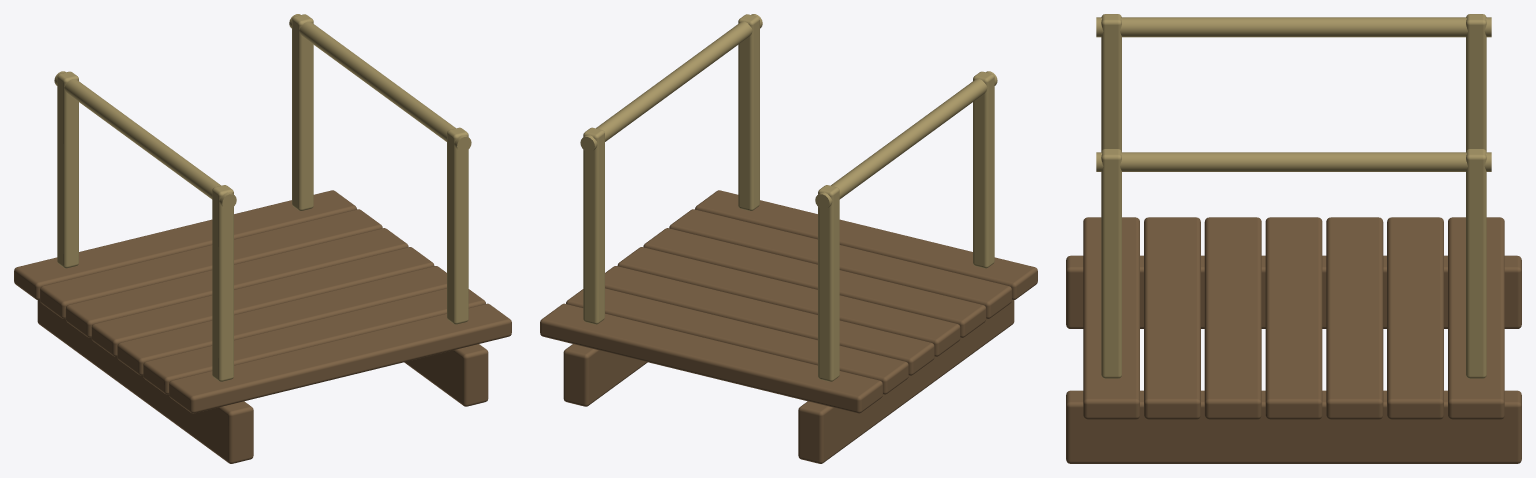
The model's file is water-clock-garden-and-hydraulic-puzzles-removable-ins-441a19b6__31960.glb.
3 views of the same model, side by side, from view 1: azimuth 30°, elevation 25°; view 2: azimuth 150°, elevation 25°; view 3: azimuth 270°, elevation 25° (orthographic). The views are drawn at different scales.
Parts seen in each view (by area): view 1: removable-inspection-bridge; view 2: removable-inspection-bridge; view 3: removable-inspection-bridge.
Boxes of the visible parts, x1,y1,x2,y2 form: removable-inspection-bridge: [14, 14, 511, 463]; removable-inspection-bridge: [540, 14, 1037, 463]; removable-inspection-bridge: [1066, 14, 1521, 463].
Bounding box in the file's own units: 1.15 × 0.89 × 1.2.
